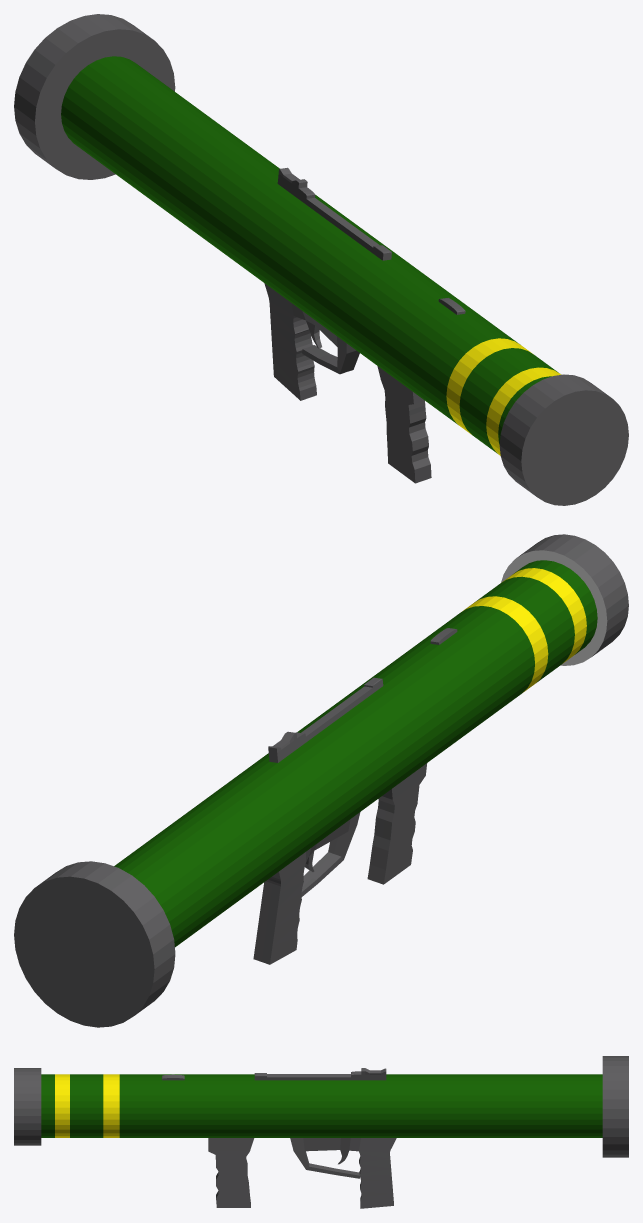
Rendered from bazuca.fbx.
3 views of the same model, one above another, from view 1: azimuth 30°, elevation 25°; view 2: azimuth 150°, elevation 25°; view 3: azimuth 270°, elevation 25° (orthographic). The views are drawn at different scales.
Parts seen in each view (by area): view 1: 3; view 2: 3; view 3: 3.
Part boxes in pixels (x1,y1,x2,y2): 3: [14, 14, 628, 505]; 3: [14, 534, 628, 1027]; 3: [14, 1056, 628, 1208].
Size of the model in its own units: 77.01 by 120 by 466.
